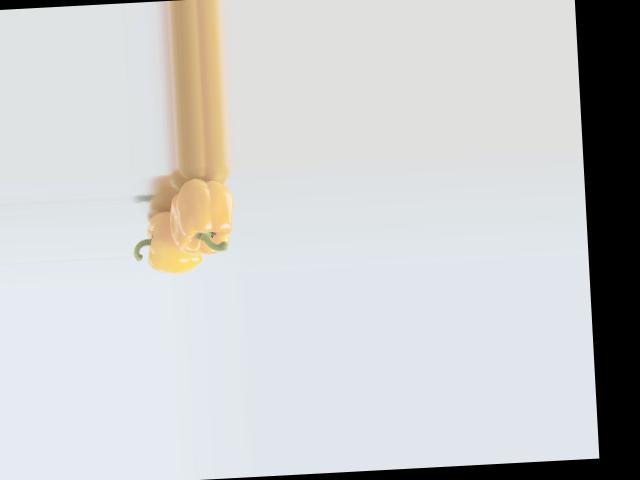bell_pepper: (132, 198, 205, 276)
